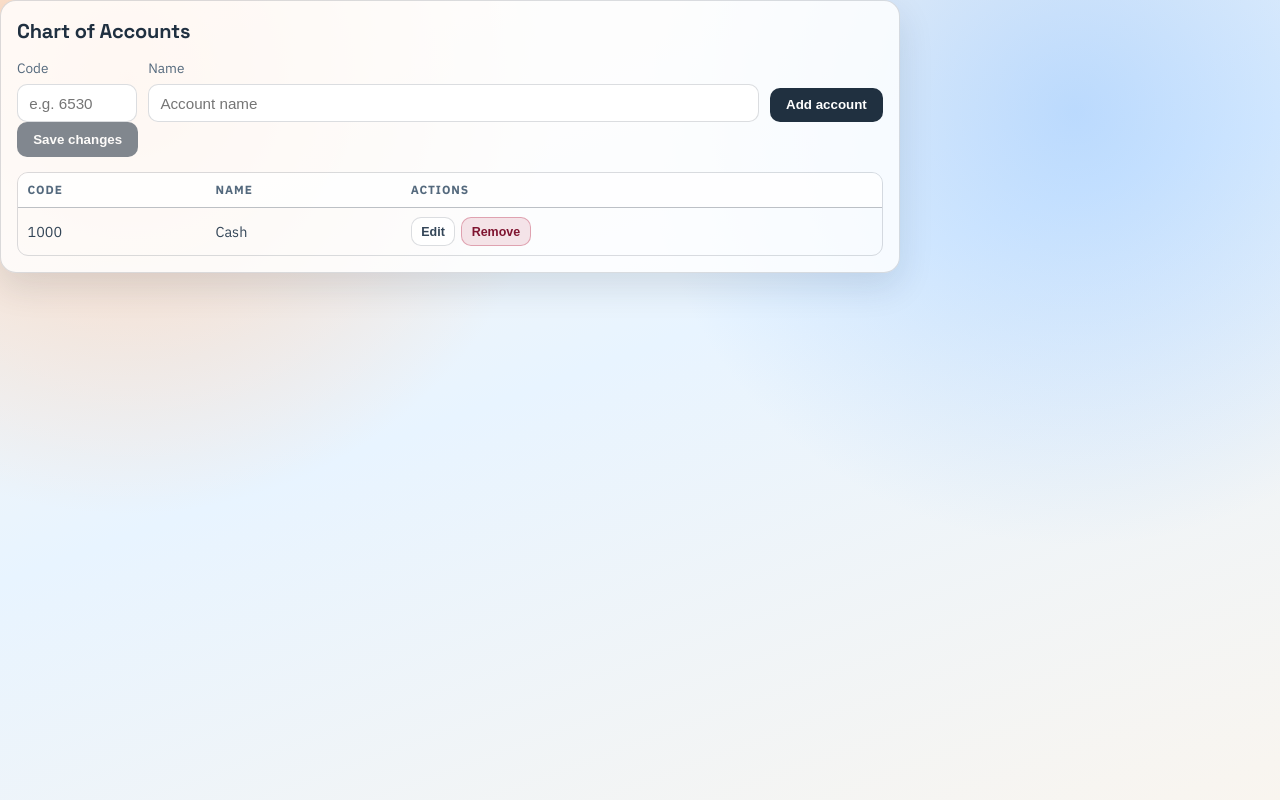
Test: AccountsPanel draft workflow › keeps draft state and shows sync error when save snapshot fails
Type "3000" into the field labelled "Code".
click(77, 103); type("3000")  # box [17,84,137,122]
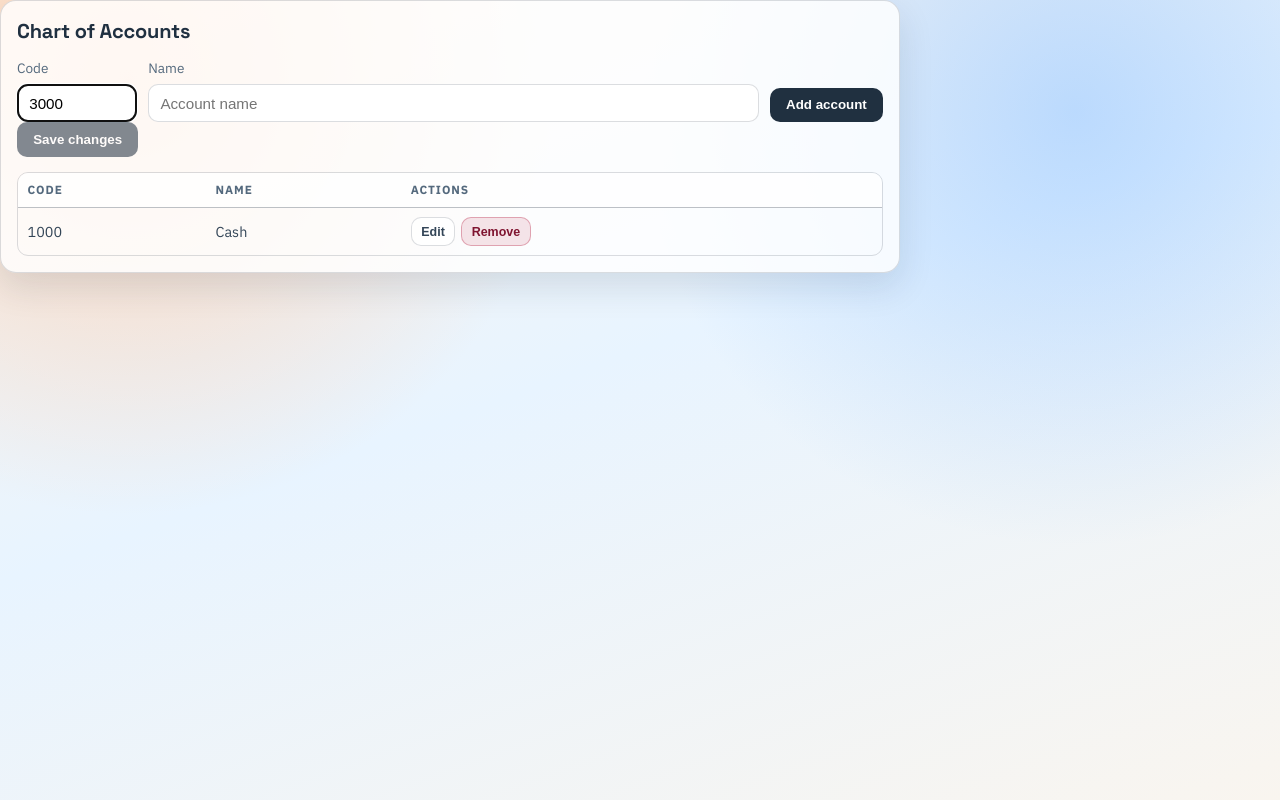
Type "Office supplies" into the field labelled "Name".
click(453, 103); type("Office supplies")  # box [148,84,759,122]
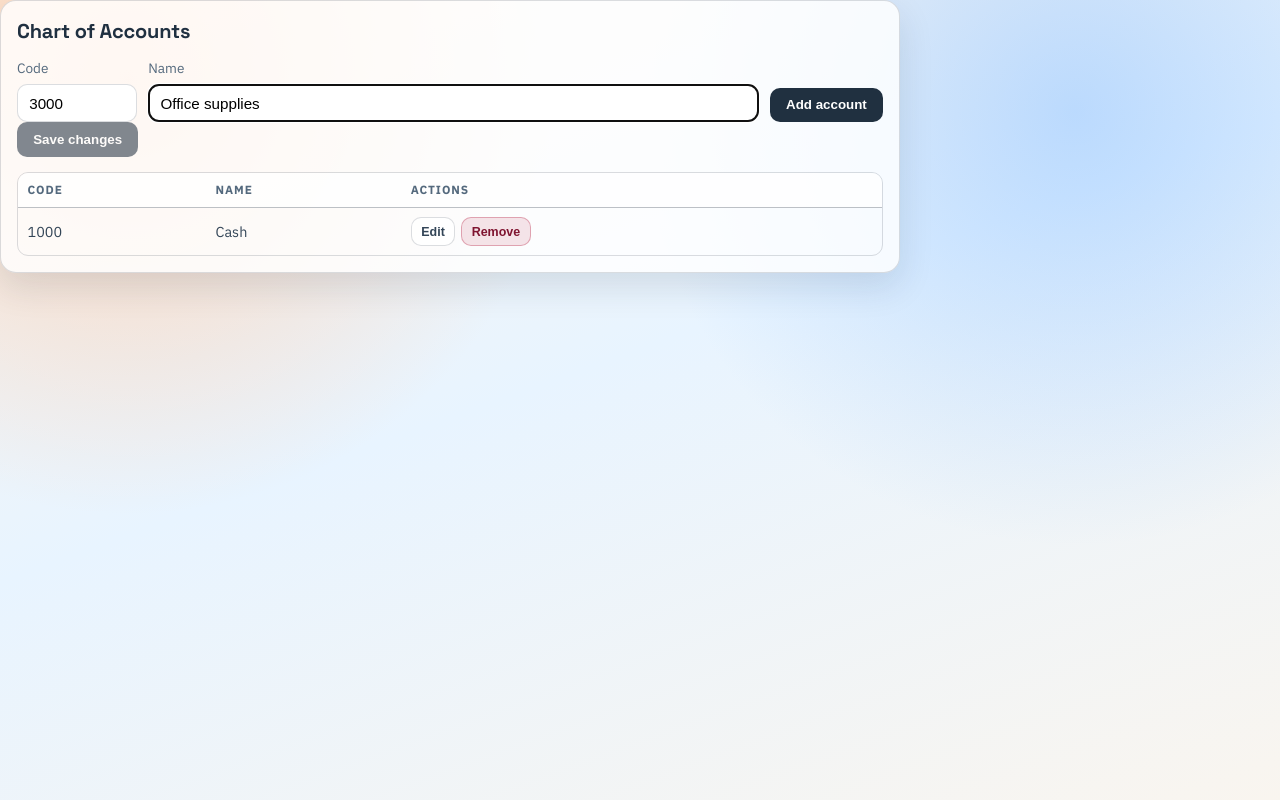
Click the button "Add account".
click(826, 105)  # box [770,88,883,122]
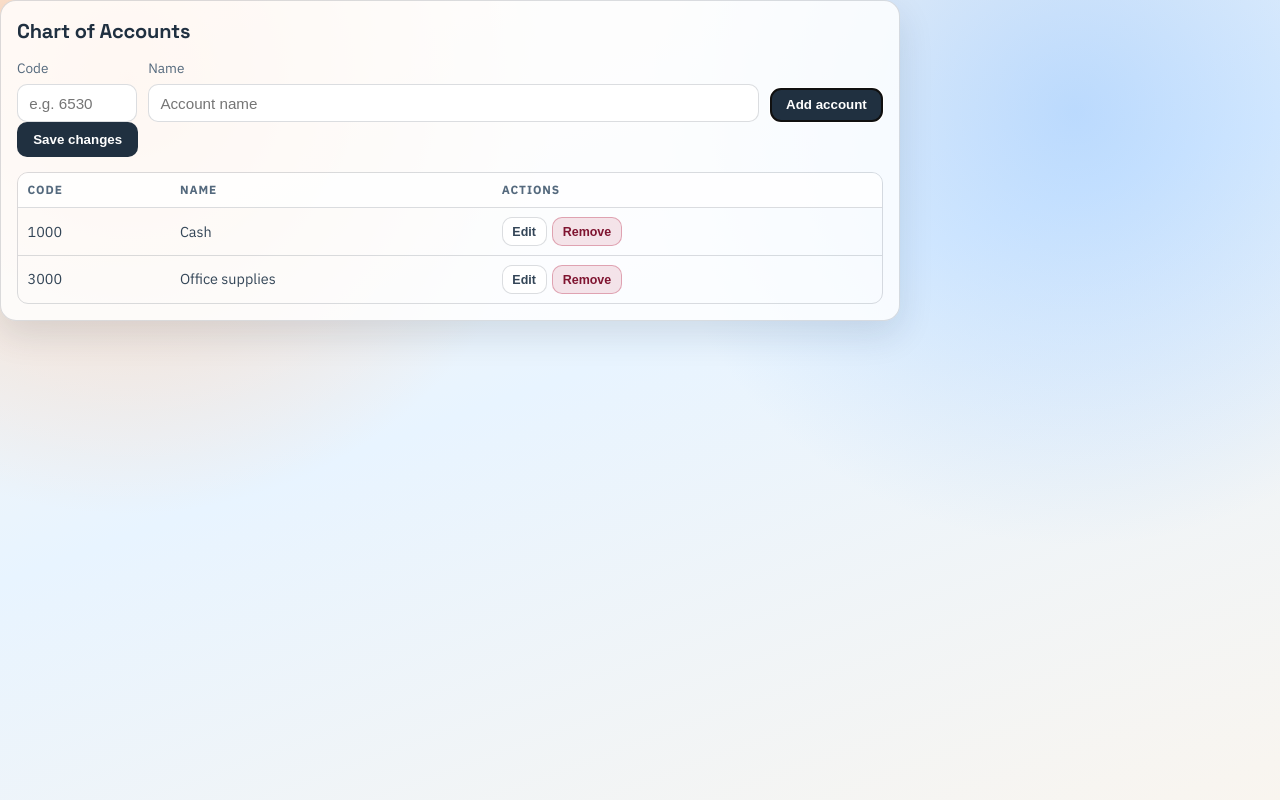
Click the button "Save changes".
click(78, 140)  # box [17,122,138,157]
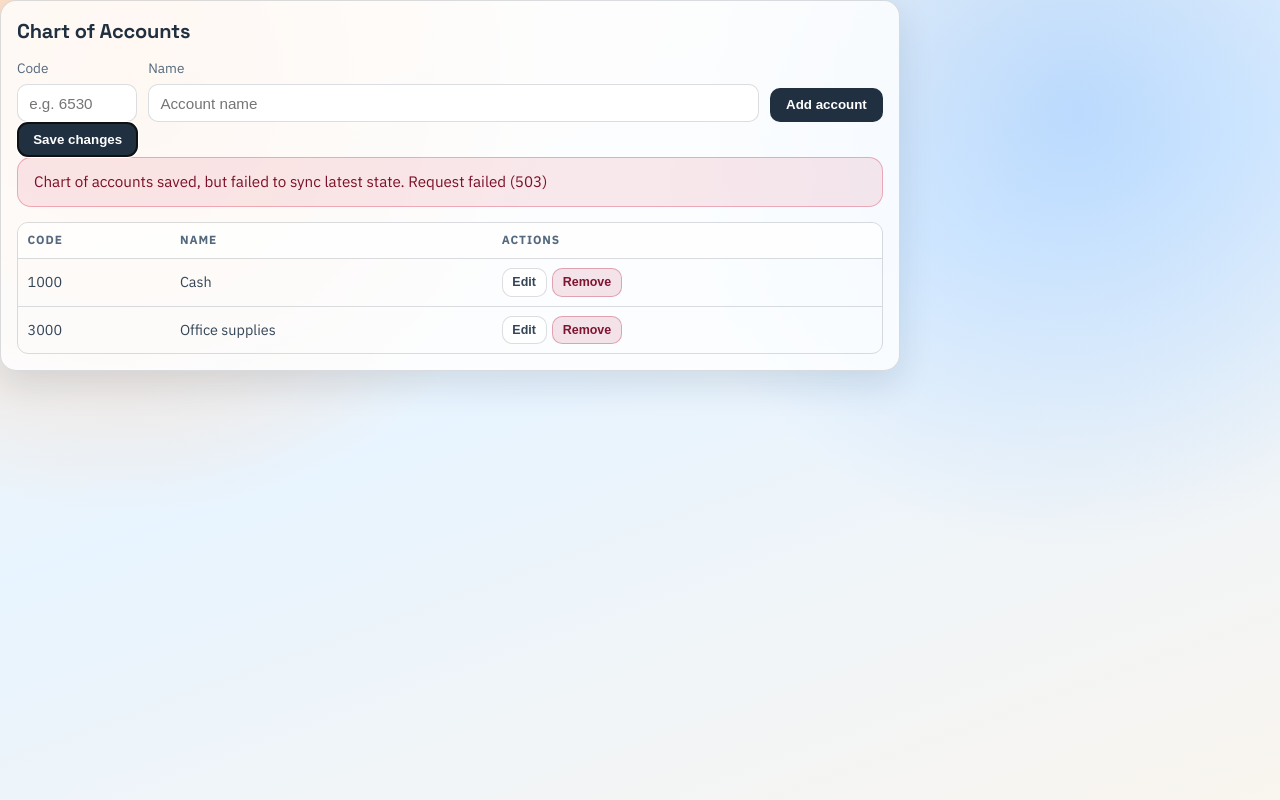
Check: the button "Save changes" is enabled, box [17,122,138,157]
Check: the text "Chart of accounts saved, but failed to sync latest state. Request failed (503)" is shown, box [17,157,883,207]
